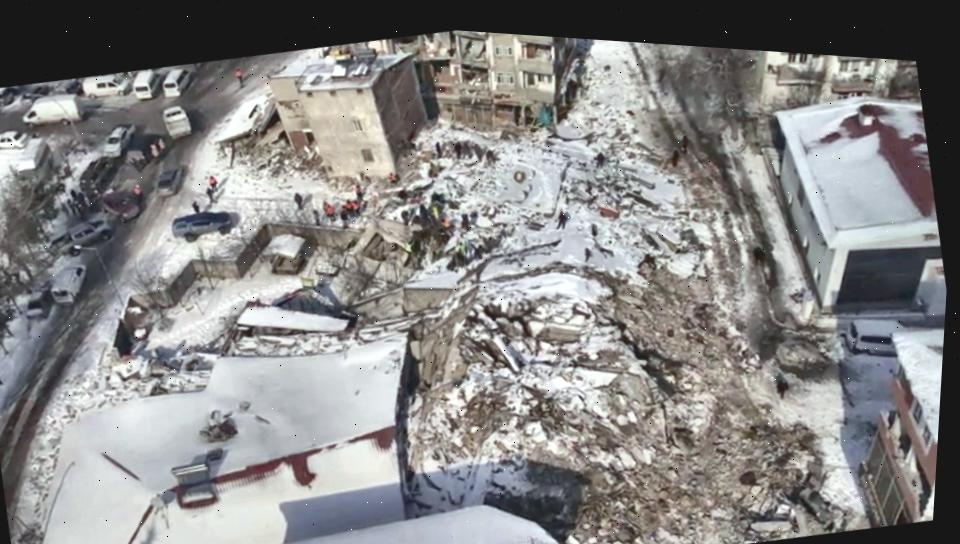kapali: (631, 112, 872, 542)
